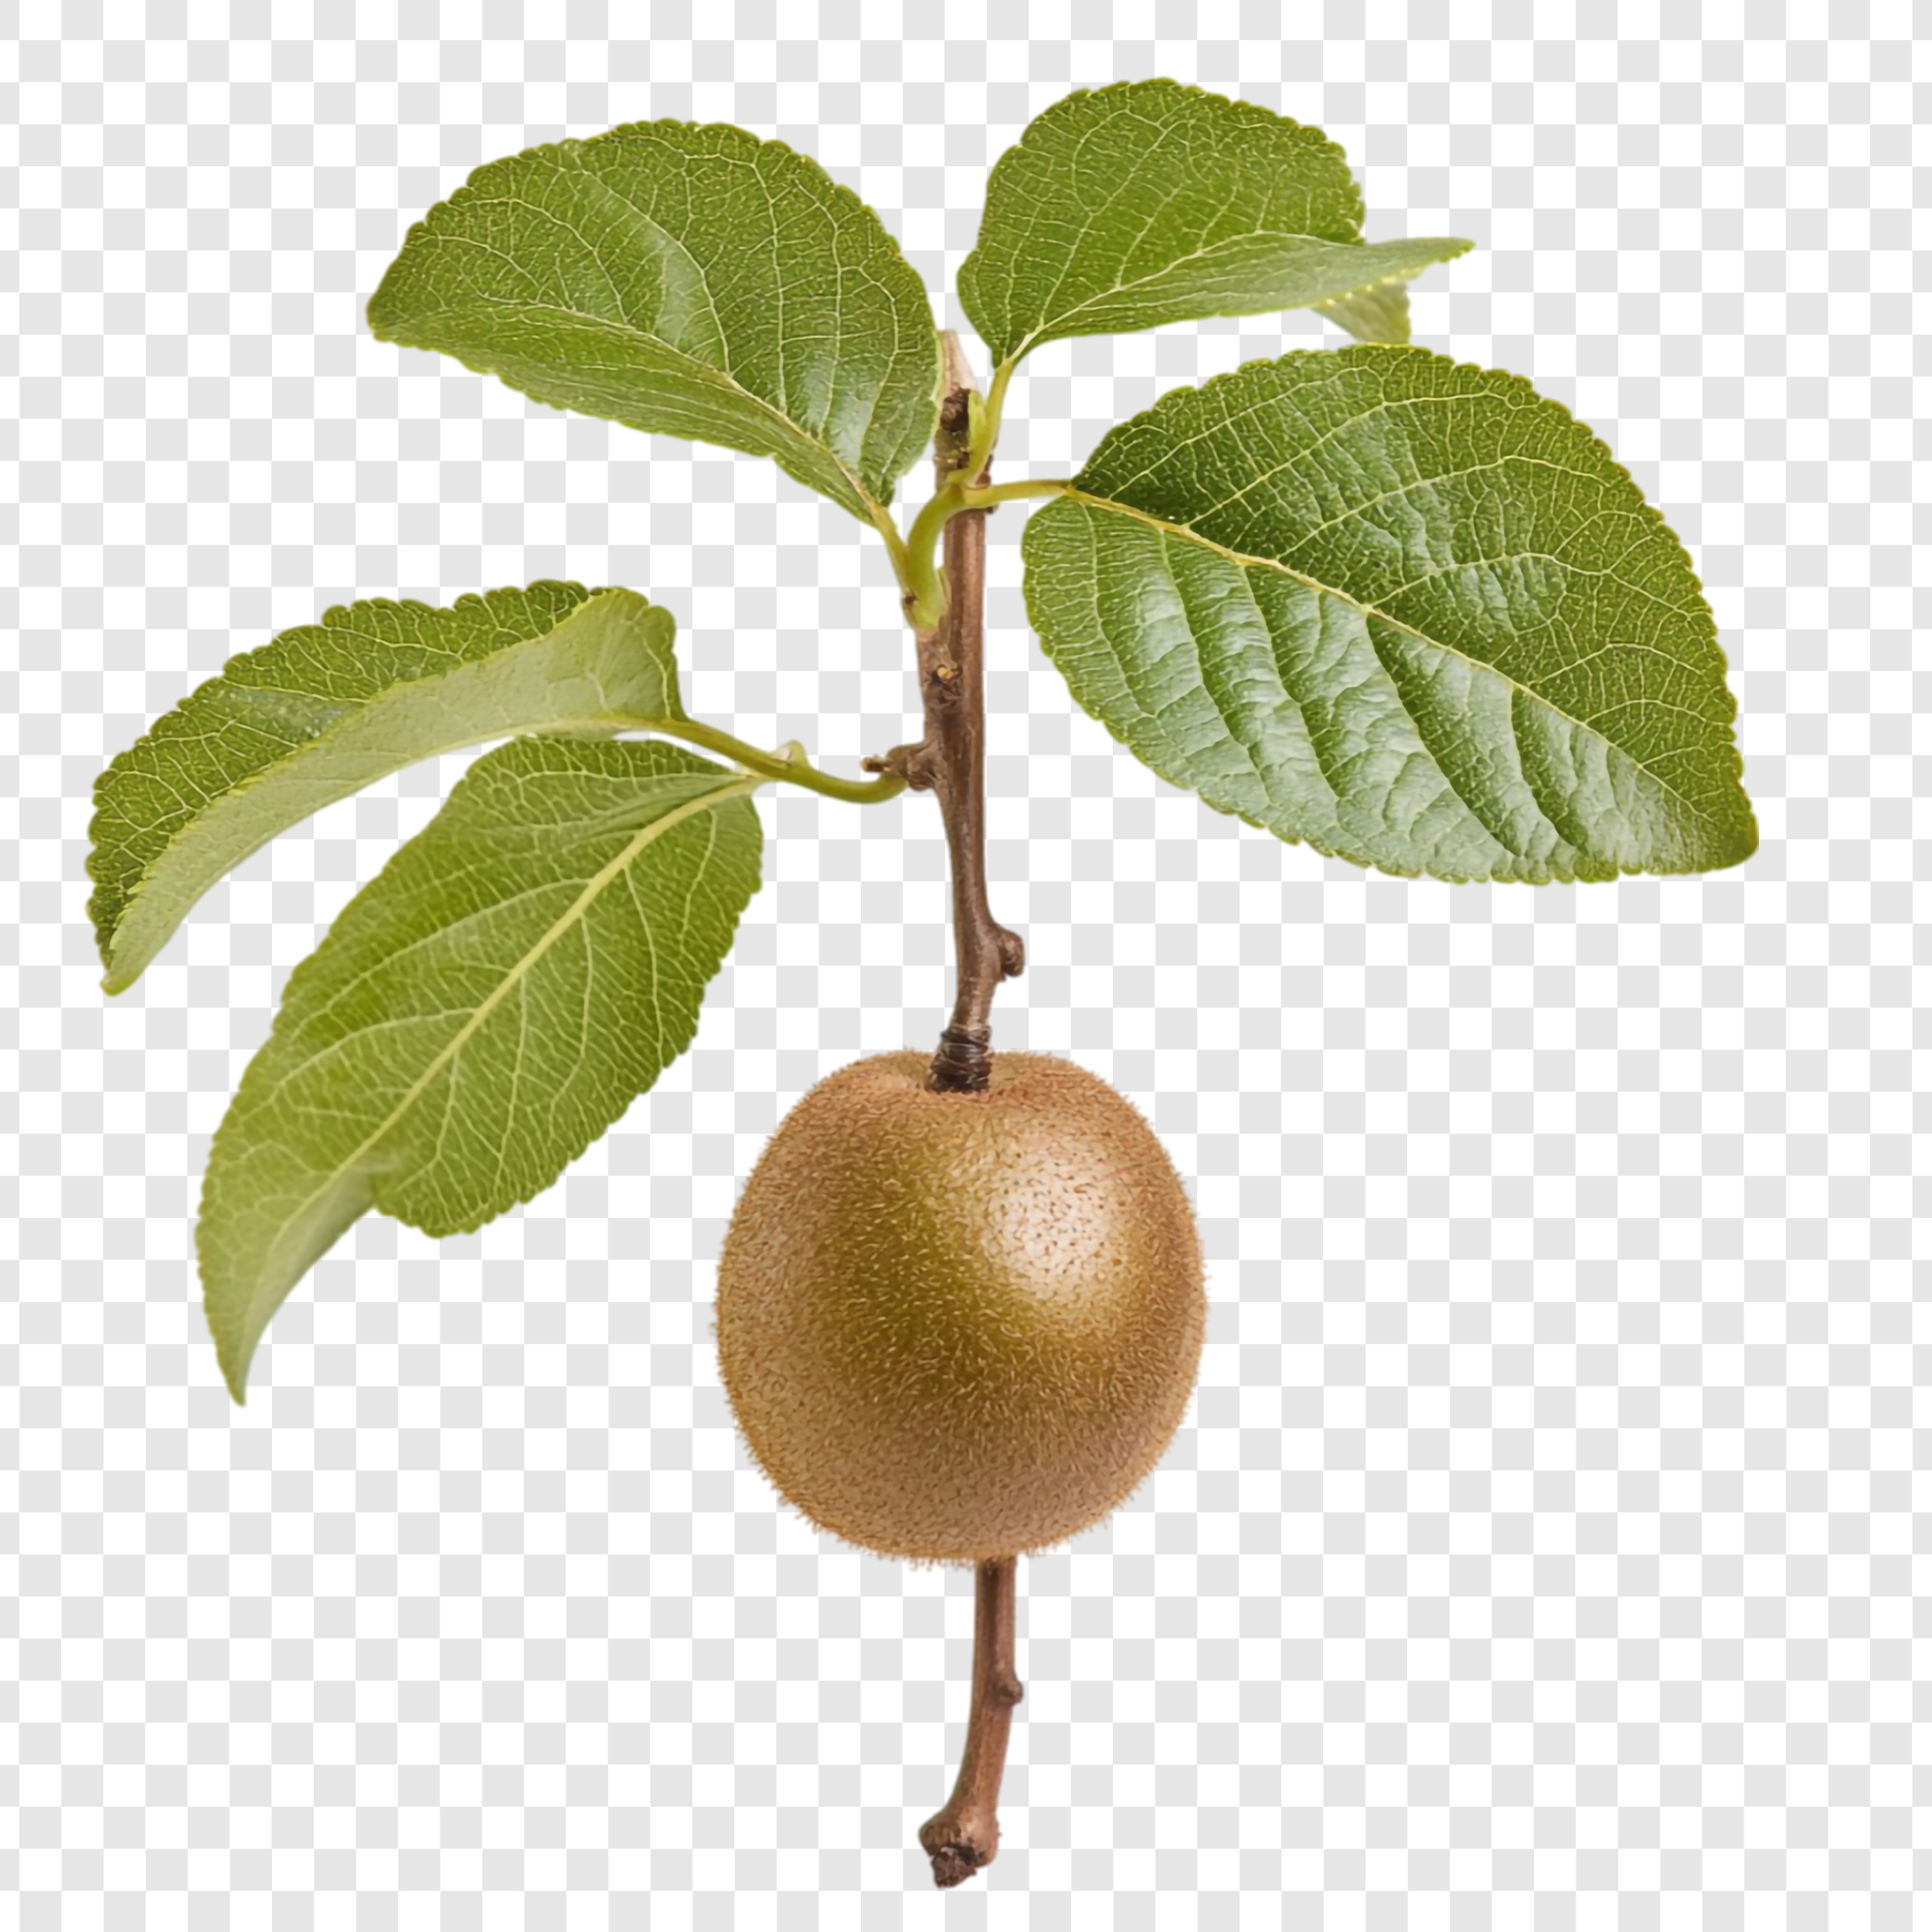kiwi: (453, 685, 1444, 1799)
